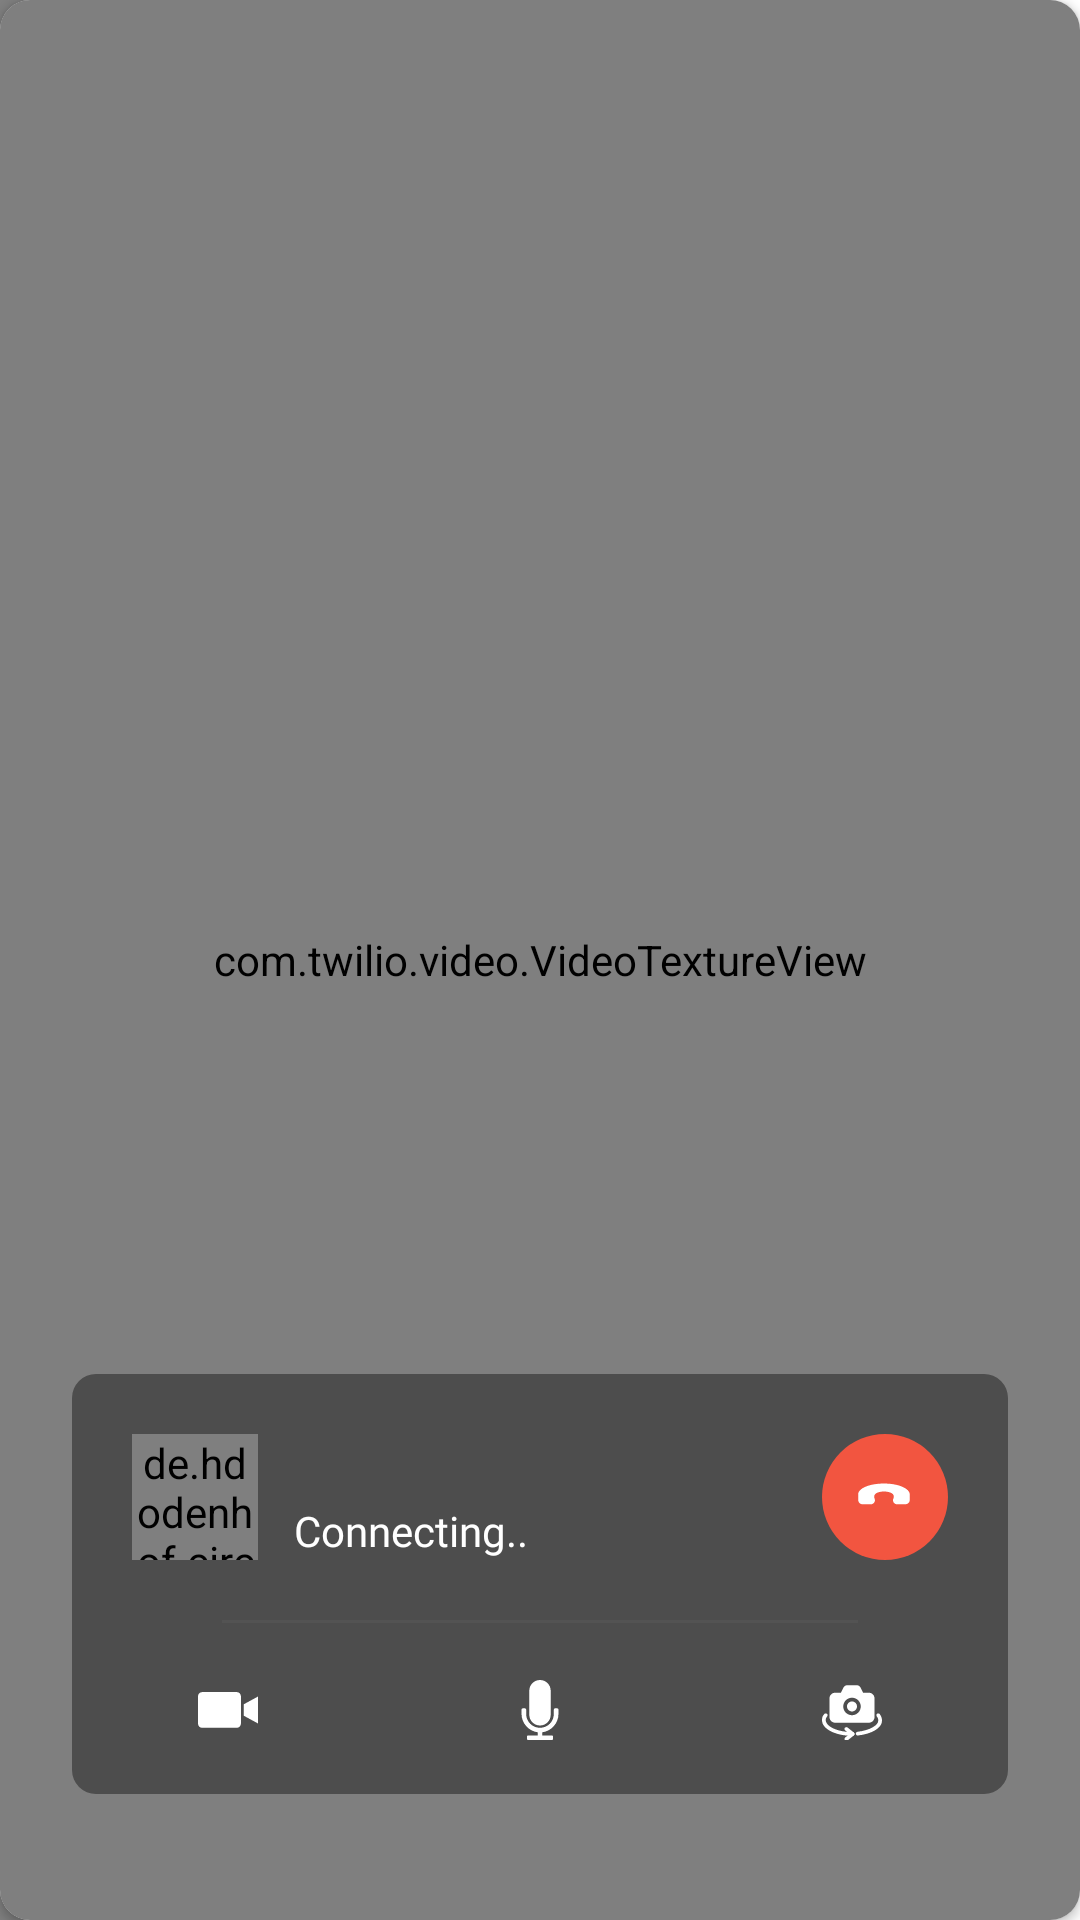

Named icons in this screenshot (1080×1920) and their centers, [x,y]:
call cut: [885,1497]
mic on: [540,1710]
video on: [228,1710]
